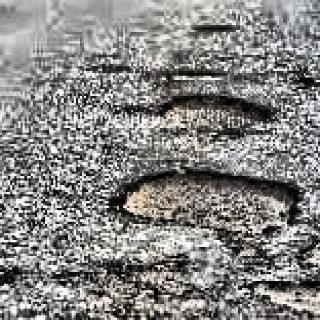pothole: (102, 149, 304, 247), (146, 80, 278, 130), (235, 264, 320, 320), (146, 58, 242, 86), (194, 15, 244, 39)
